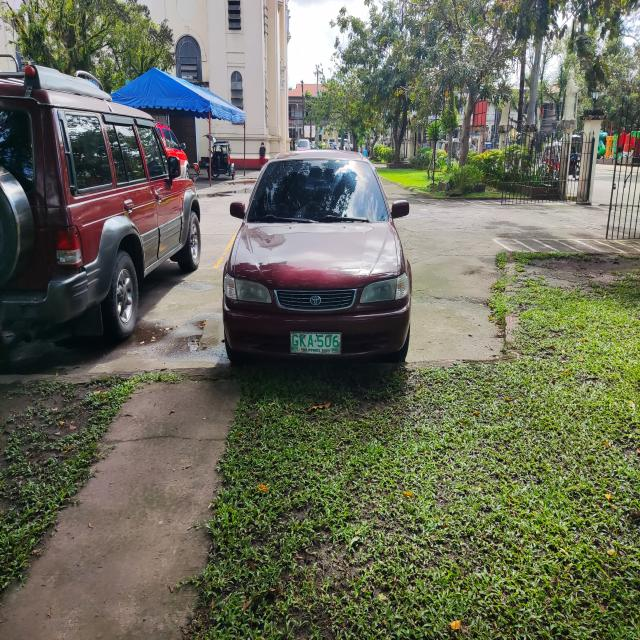plate: (288, 330, 342, 358)
